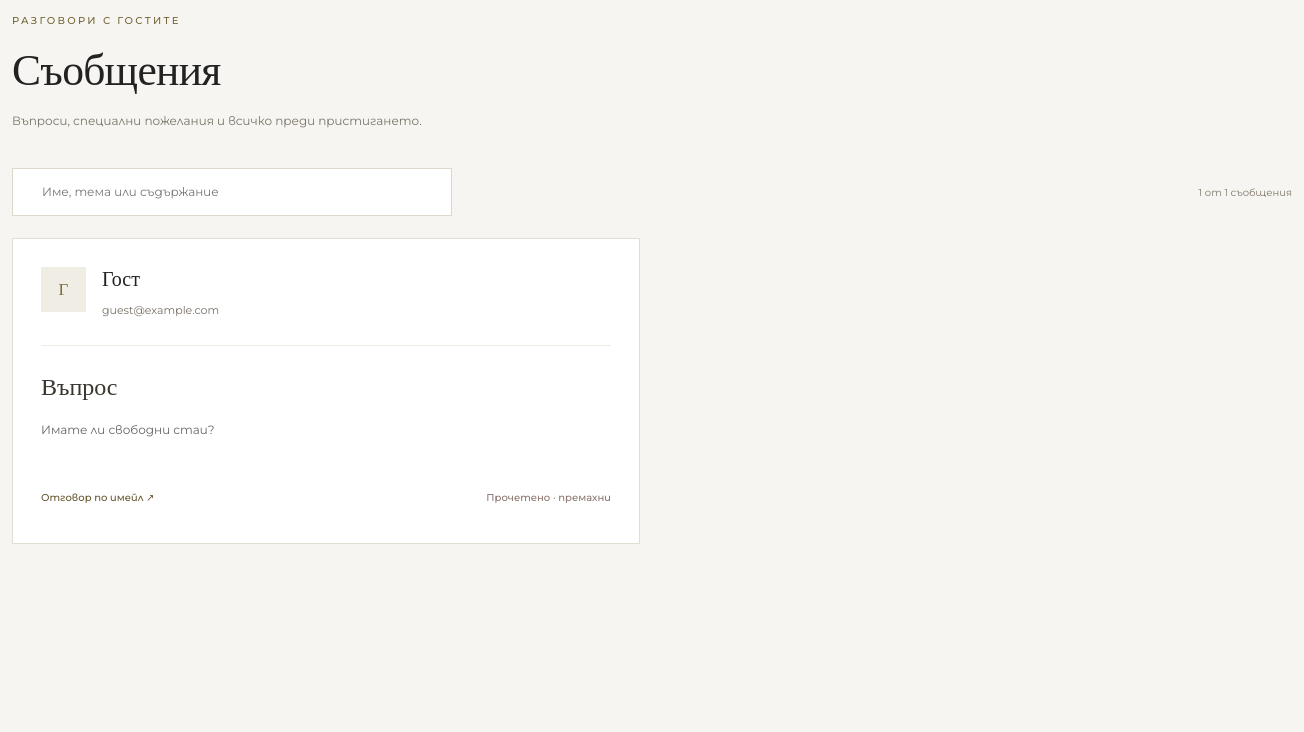
Test case: preserves the message and reports an unsuccessful deletion
The width and height of the screenshot is (1304, 732).
Click the button "Прочетено · премахни" at (549, 498), box x1=486 y1=481 x2=611 y2=515
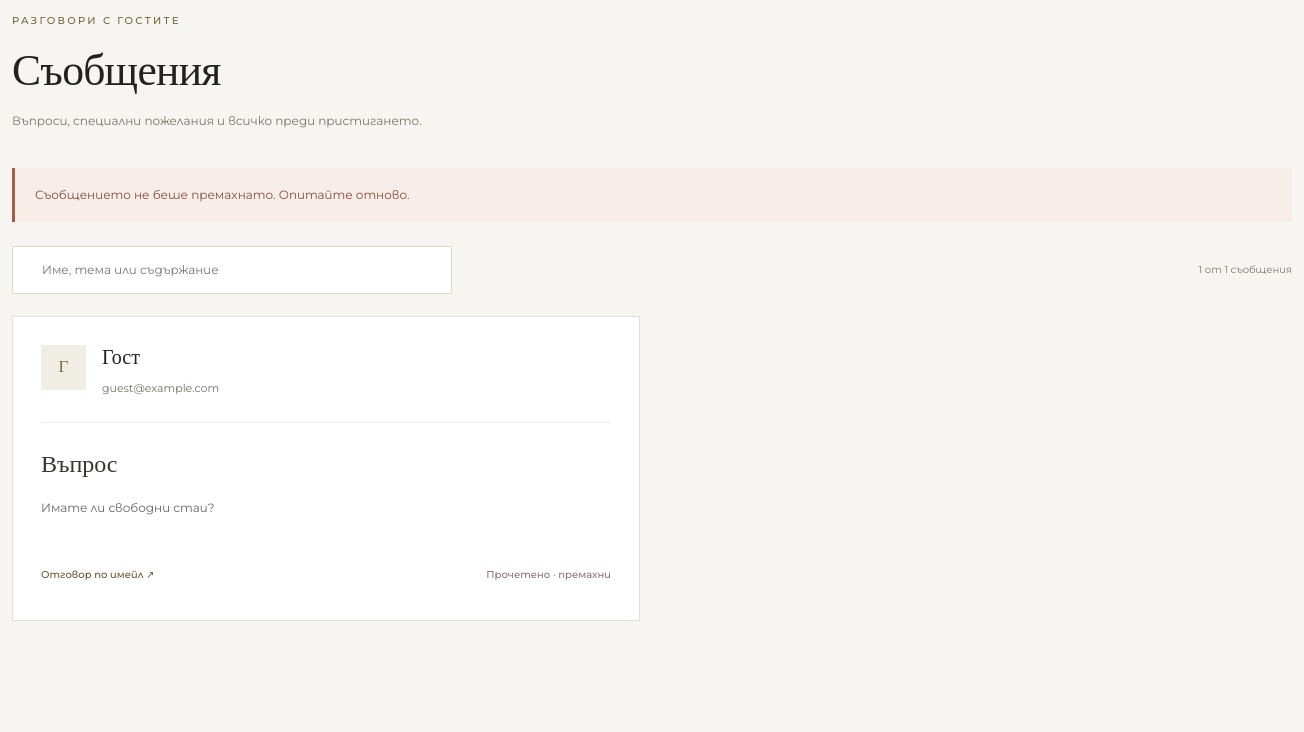
Expected: the text "Имате ли свободни стаи?" is shown, x1=41 y1=500 x2=214 y2=515
Result: the message "Съобщението не беше премахнато. Опитайте отново." is shown at x1=12 y1=168 x2=1292 y2=222
